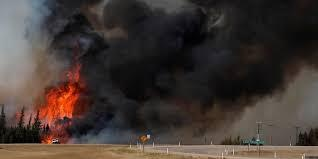fire: (32, 60, 83, 141)
